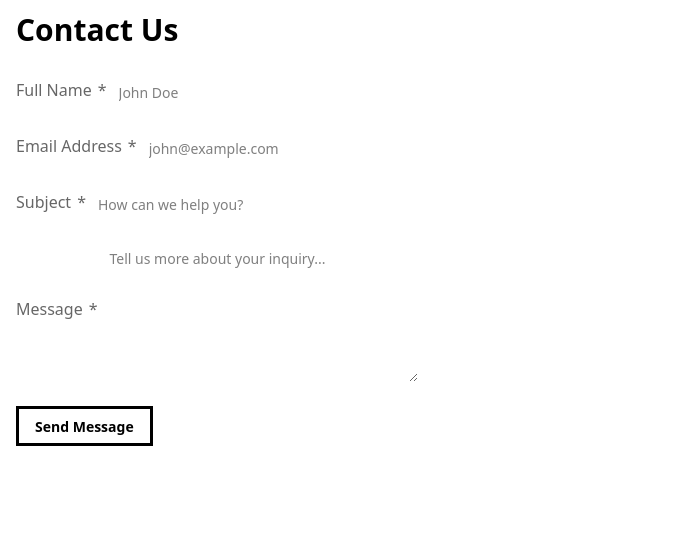
Test case: ContactForm › Rendering › Form Validation › should validate email format
In the field labelled "Email Address *": (297, 148) [137,128,457,168], type "invalid-email"
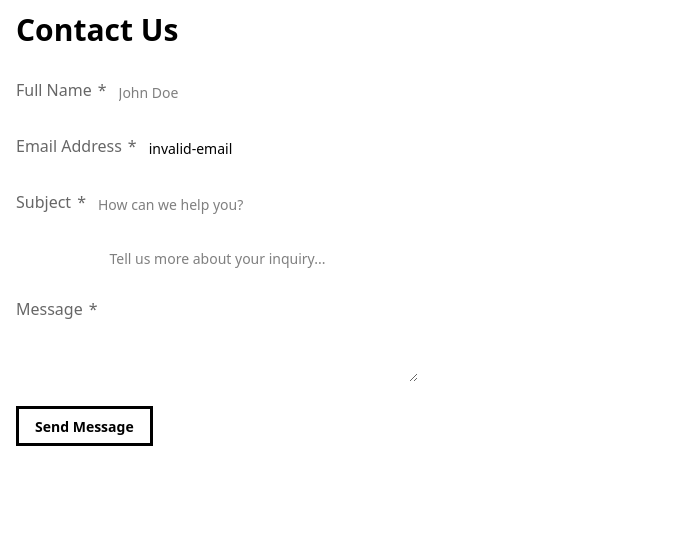
// Try to submit with invalid email
Click the button "Send Message": click(84, 426) [16,406,153,446]
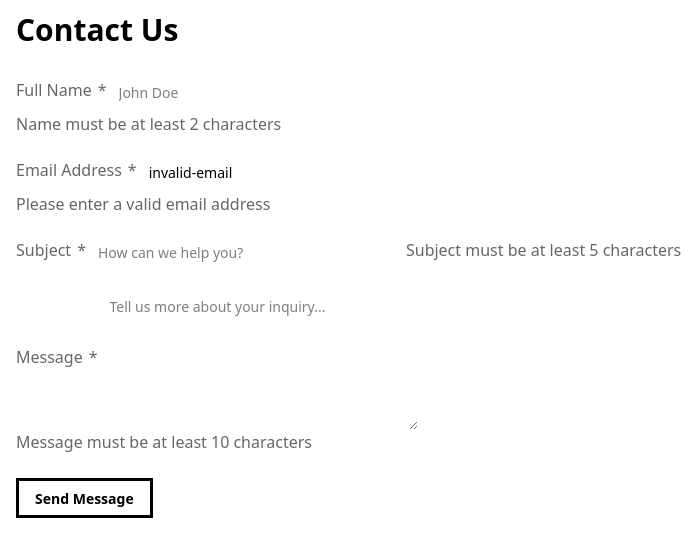
Now the text "Please enter a valid email address" is shown, box [16,192,270,216]
